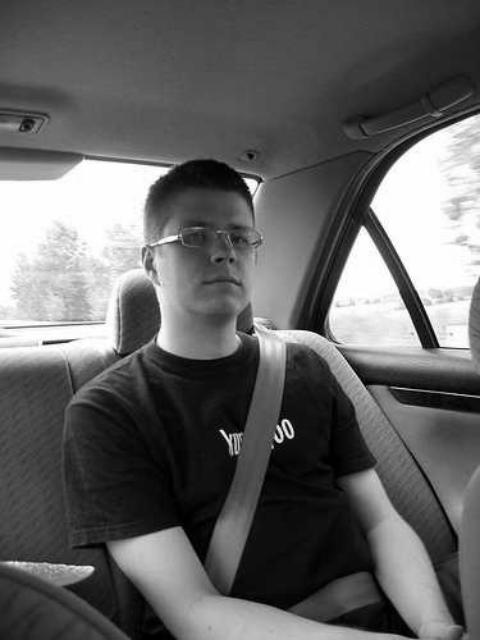SafeDriving: (0, 96, 64, 145), (176, 224, 213, 250), (224, 228, 258, 249)
Seatbelt: (196, 329, 384, 627)
